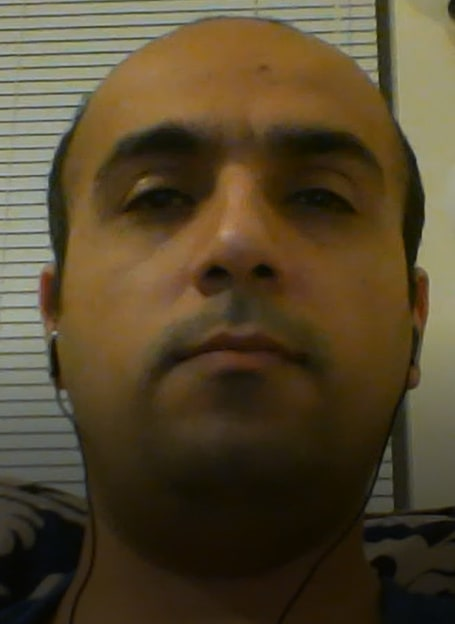Not Sleeping: (97, 112, 384, 239)
